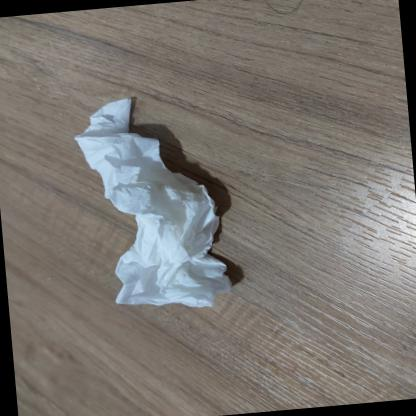paper: (60, 87, 239, 322)
